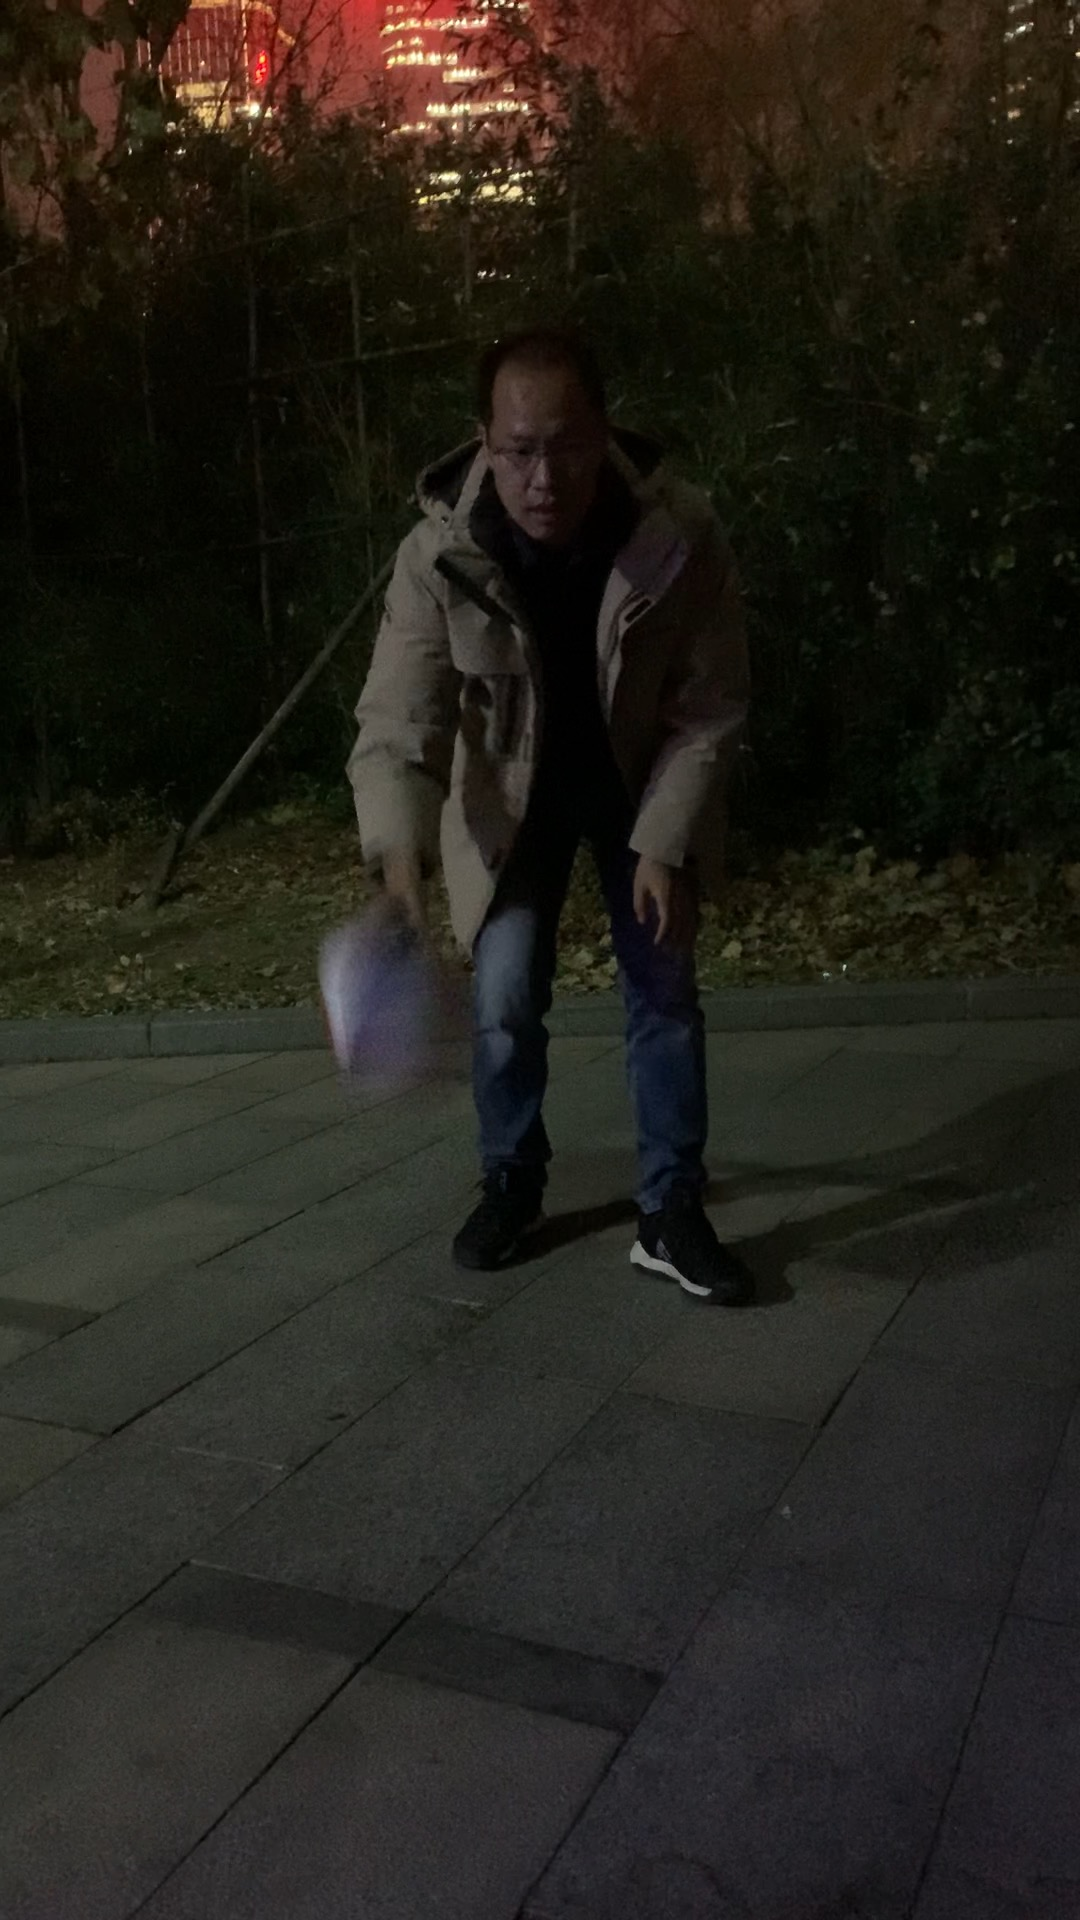ball: (313, 923, 471, 1088)
